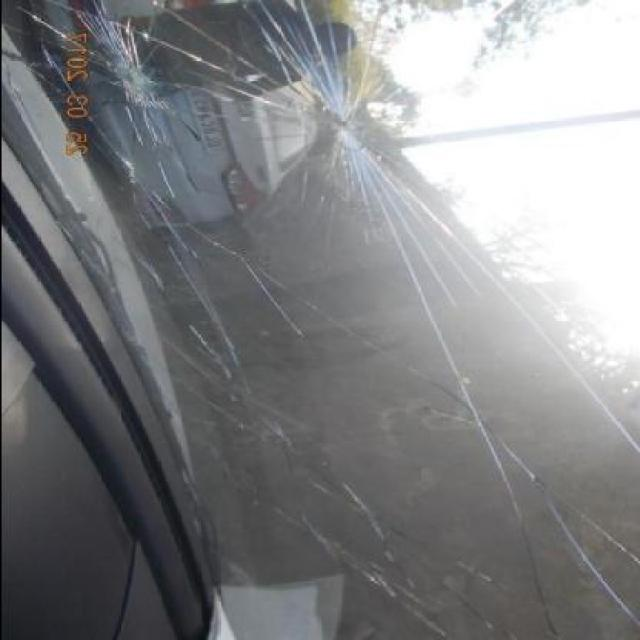damage: (67, 1, 189, 148), (277, 34, 377, 169)
